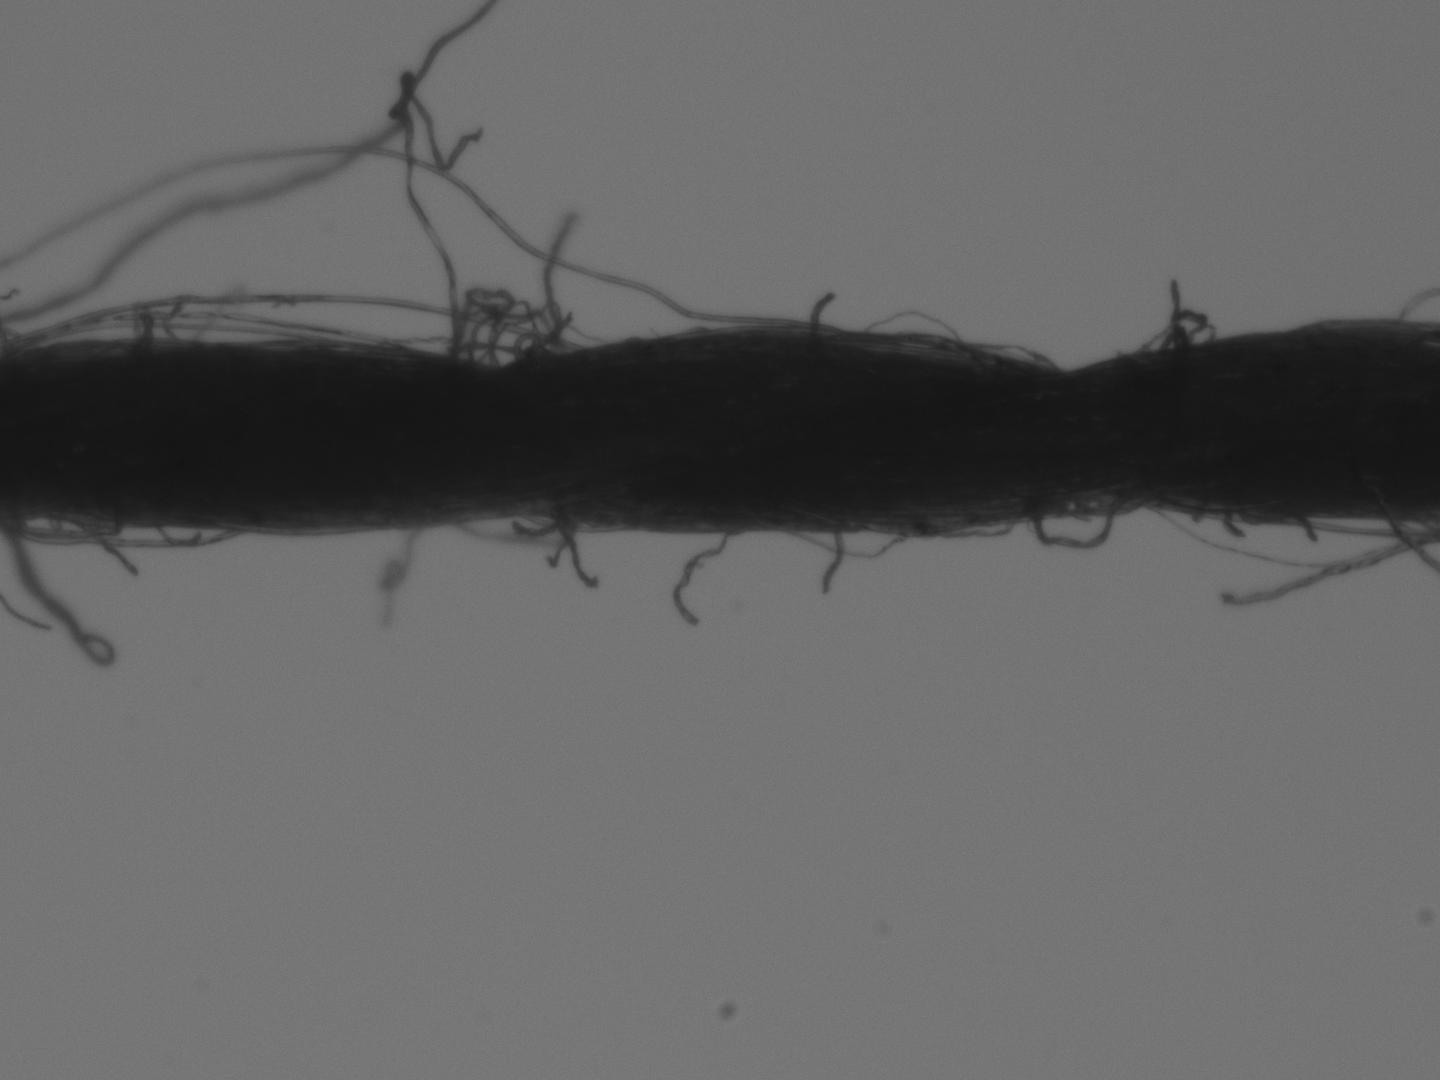loop_fiber: (9, 293, 585, 364), (15, 314, 397, 354), (443, 285, 604, 364), (855, 307, 973, 371), (1032, 491, 1140, 552), (71, 516, 243, 551), (2, 509, 127, 545), (1136, 309, 1214, 355), (951, 340, 1061, 371), (448, 339, 537, 365)
protruding_fiber: (389, 71, 484, 357), (1227, 530, 1426, 601), (671, 525, 729, 628), (544, 208, 578, 349), (551, 498, 595, 591), (79, 508, 137, 572), (810, 288, 836, 346), (1168, 277, 1187, 345), (822, 528, 841, 592)
